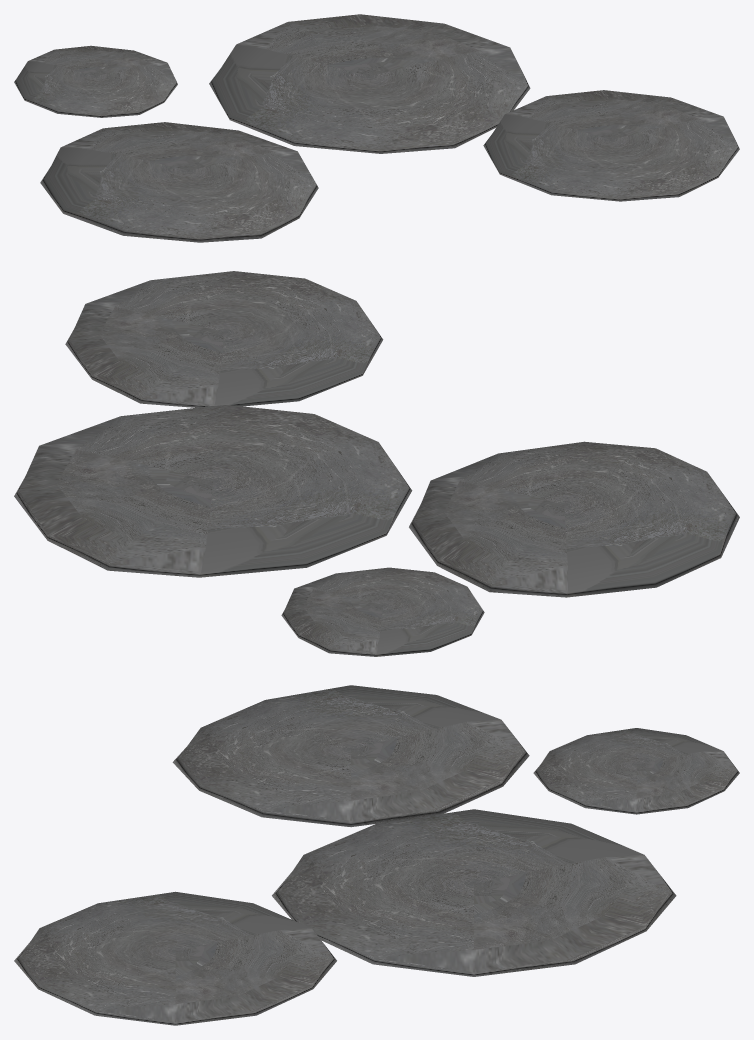
Rendered from BlueworldFloorPads.fbx.
The picture shows the model from 3 angles, top to bottom: view 1: azimuth 30°, elevation 25°; view 2: azimuth 150°, elevation 25°; view 3: azimuth 270°, elevation 25°; orthographic projection. The views are drawn at different scales.
Parts seen in each view (by area): view 1: LillyPad, LillyPad2, LillyPad1, LillyPad3; view 2: LillyPad, LillyPad2, LillyPad1, LillyPad3; view 3: LillyPad, LillyPad2, LillyPad1, LillyPad3.
Part boxes in pixels (box(x1,y1,x2,y2)): LillyPad: box(209, 14, 530, 153); LillyPad2: box(40, 122, 318, 242); LillyPad1: box(483, 90, 739, 201); LillyPad3: box(14, 45, 177, 117); LillyPad: box(14, 405, 412, 577); LillyPad2: box(409, 441, 739, 597); LillyPad1: box(65, 271, 383, 407); LillyPad3: box(281, 567, 484, 656); LillyPad: box(272, 809, 676, 976); LillyPad2: box(172, 685, 529, 827); LillyPad1: box(14, 891, 336, 1025); LillyPad3: box(533, 728, 739, 814).
Bounding box in the file's own units: 10.99 × 0.2532 × 9.9.
